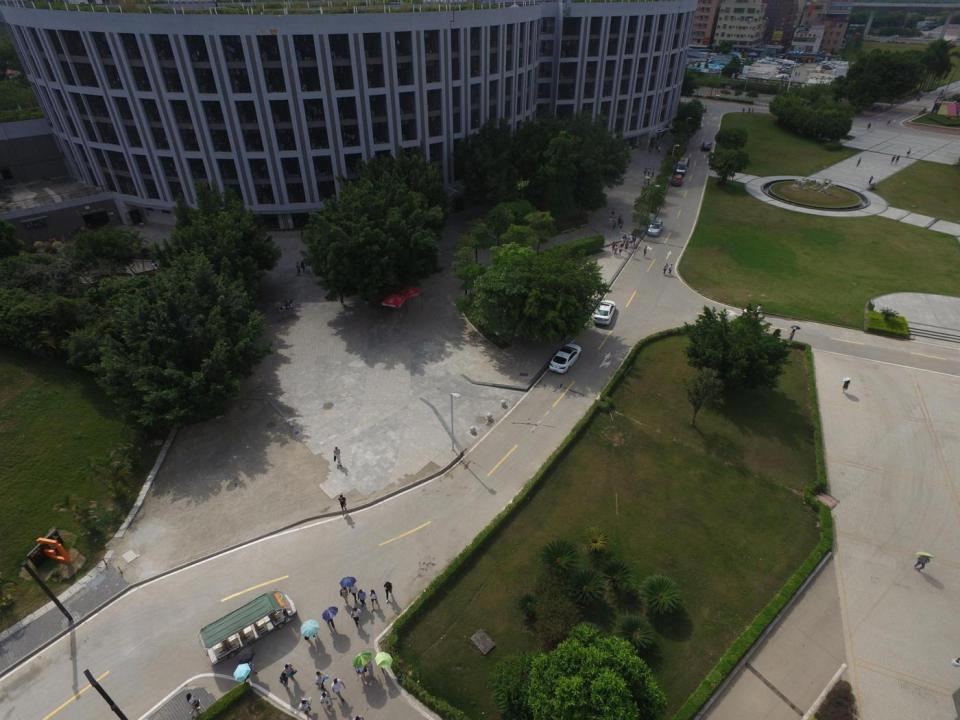car: (548, 342, 581, 374), (592, 299, 616, 325), (646, 219, 664, 236), (702, 140, 712, 151)
truck: (676, 156, 690, 174)
van: (671, 173, 684, 186)
